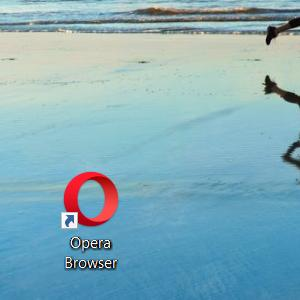opera: (61, 171, 119, 229)
